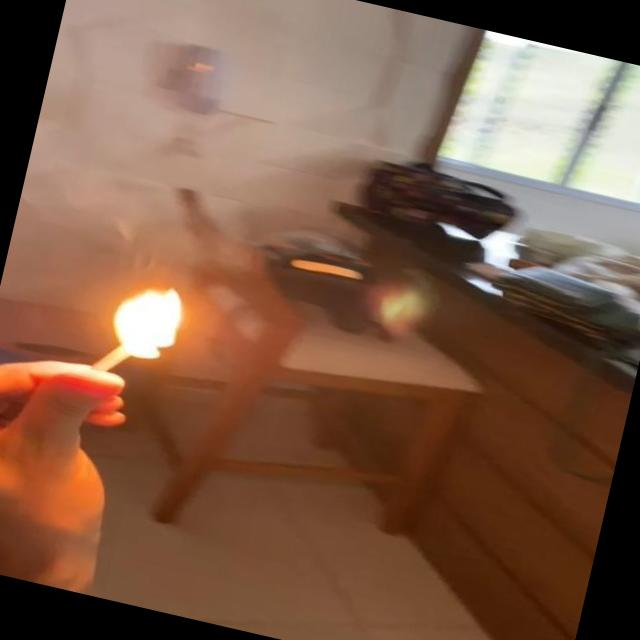Fire: (98, 274, 190, 374)
